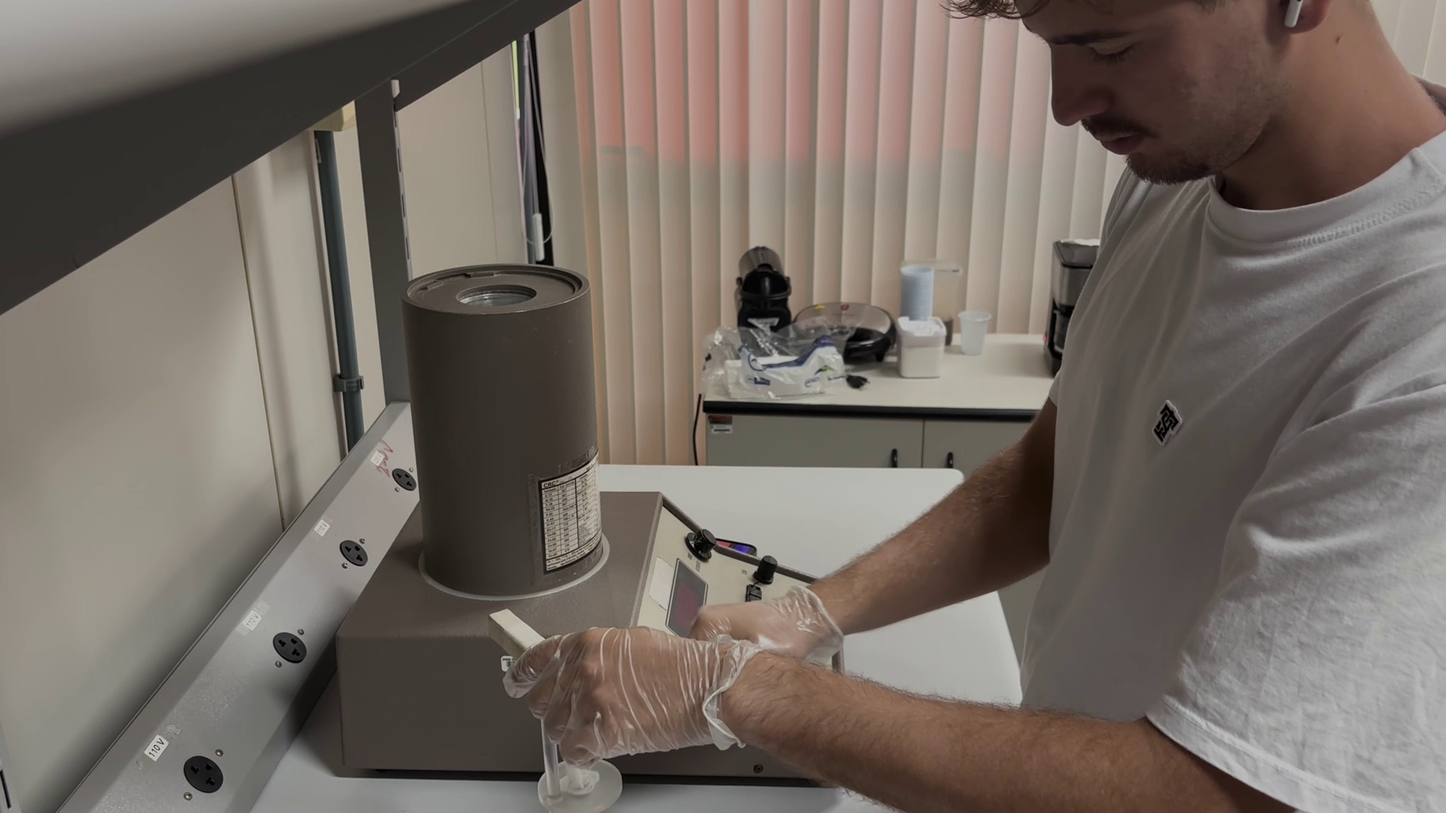Ativimetro: (399, 247, 610, 586)
Cesta: (493, 602, 631, 813)
Com_Luva: (508, 623, 762, 771), (693, 583, 842, 662)
